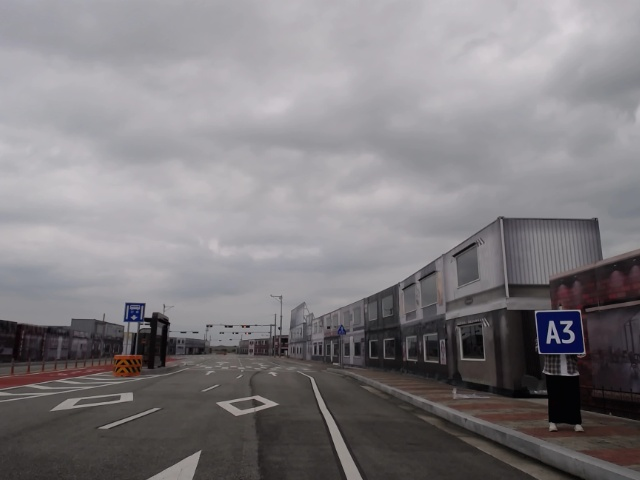delivery_a3: (535, 310, 585, 354)
